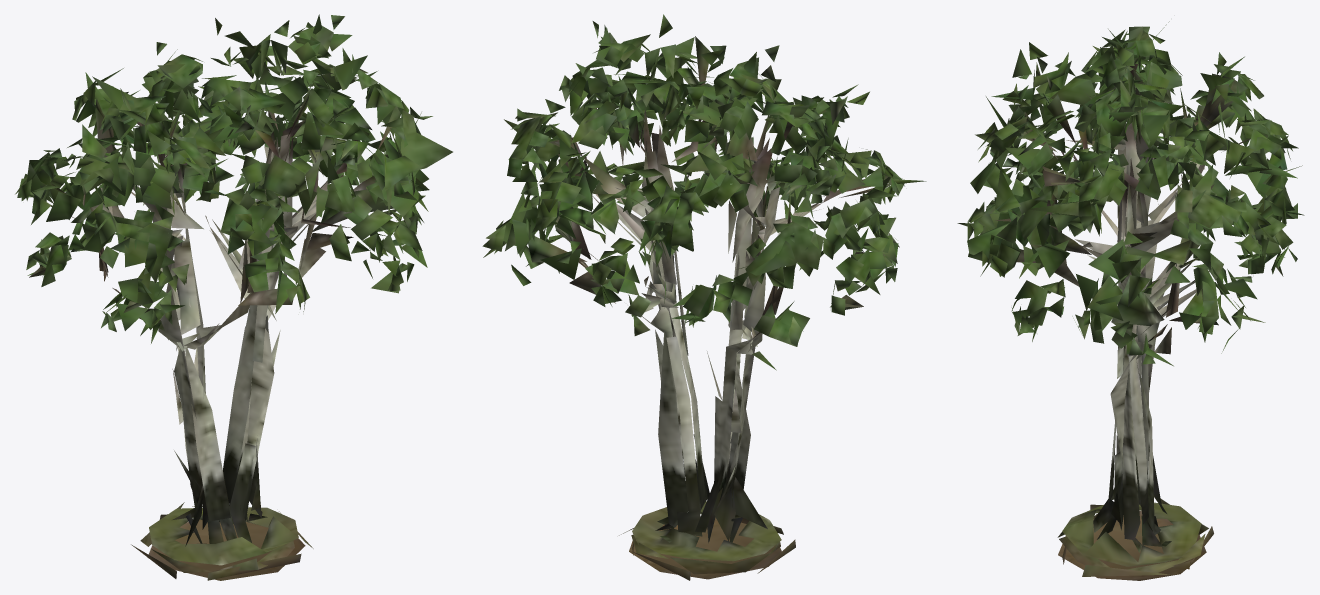
The model's file is tr_birch_b_far.glb.
The picture shows the model from 3 angles, left to right: view 1: azimuth 30°, elevation 25°; view 2: azimuth 150°, elevation 25°; view 3: azimuth 270°, elevation 25°; orthographic projection.
Parts seen in each view (by area): view 1: tr_birch_b; view 2: tr_birch_b; view 3: tr_birch_b.
Part boxes in pixels (bbox=[...]): tr_birch_b: bbox=[15, 14, 452, 580]; tr_birch_b: bbox=[482, 14, 926, 580]; tr_birch_b: bbox=[957, 21, 1304, 580].
Bounding box in the file's own units: 8.82 × 10.79 × 6.77.
Materials: 1 (1 with a texture image).
